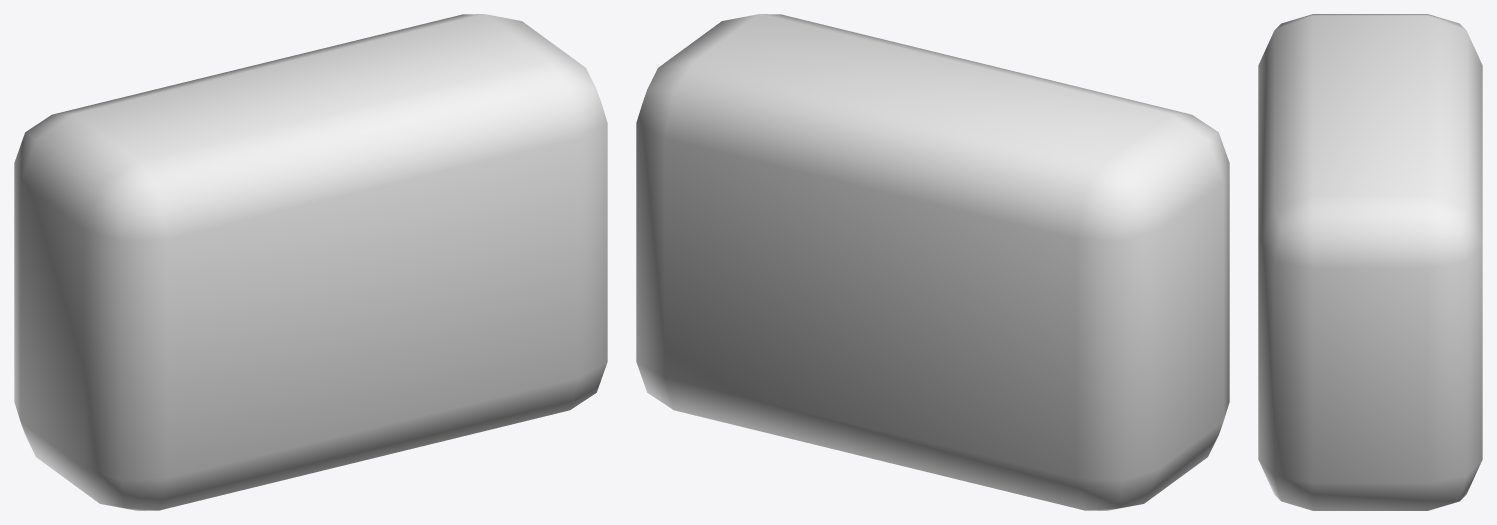
File: bed1 (Pillow).fbx
3 views of the same model, side by side, from view 1: azimuth 30°, elevation 25°; view 2: azimuth 150°, elevation 25°; view 3: azimuth 270°, elevation 25° (orthographic). The views are drawn at different scales.
Visible parts, largest first — view 1: bed1 (Pillow); view 2: bed1 (Pillow); view 3: bed1 (Pillow).
Boxes of the visible parts, x1,y1,x2,y2 form: bed1 (Pillow): (14,14,607,510); bed1 (Pillow): (636,14,1229,510); bed1 (Pillow): (1258,14,1482,510).
Size of the model in its own units: 142 by 92.02 by 59.69.
